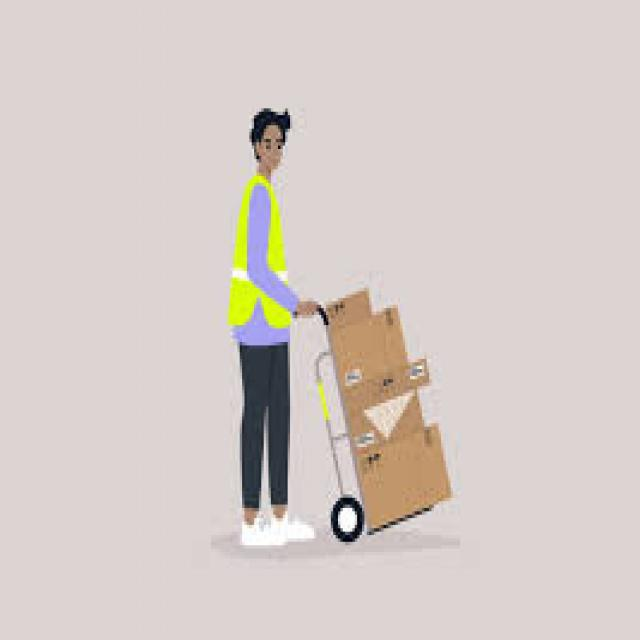Reflective-Jacket: (221, 169, 302, 342)
